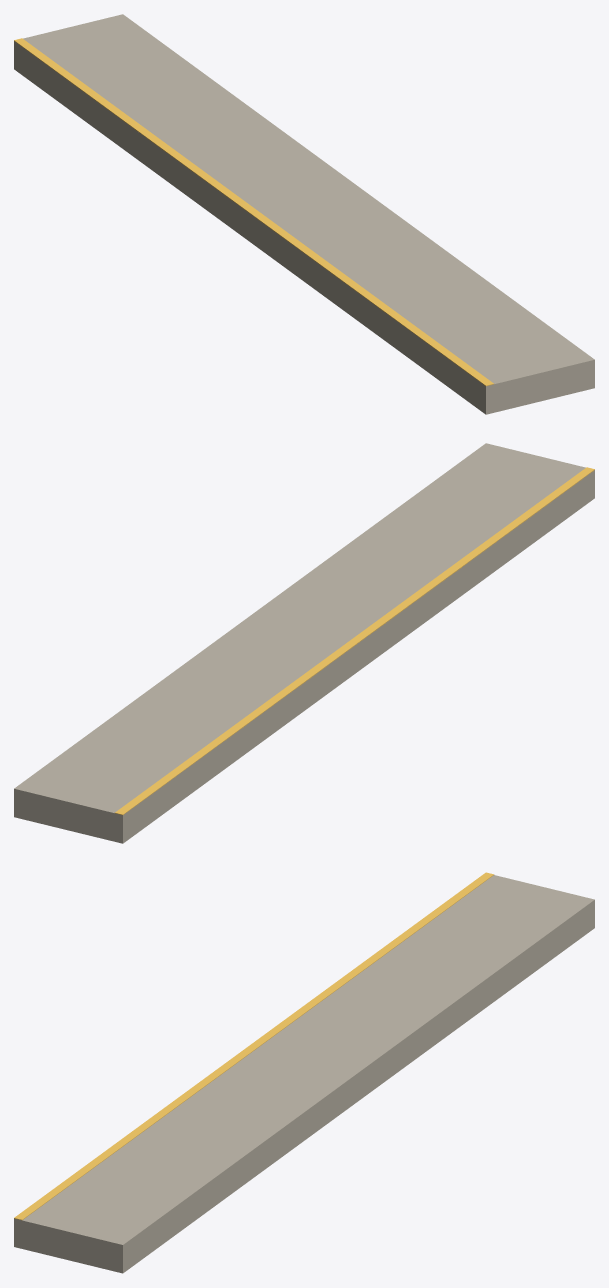
The model's file is platform.glb.
The picture shows the model from 3 angles, top to bottom: view 1: azimuth 30°, elevation 25°; view 2: azimuth 150°, elevation 25°; view 3: azimuth 330°, elevation 25°; orthographic projection.
Parts seen in each view (by area): view 1: platform; view 2: platform; view 3: platform.
Boxes of the visible parts, bbox=[...] form: platform: bbox=[14, 14, 594, 414]; platform: bbox=[14, 443, 594, 843]; platform: bbox=[14, 872, 594, 1273].
Bounding box in the file's own units: 4 × 1.02 × 30.
